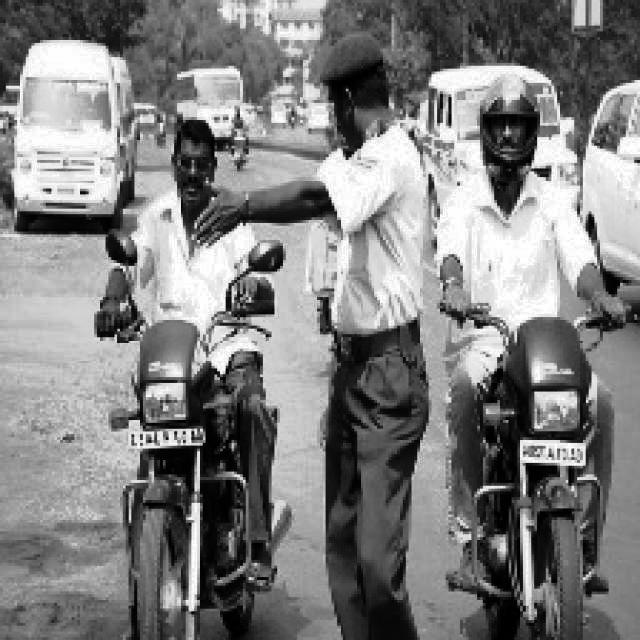Bike: (119, 309, 257, 631), (467, 268, 587, 638)
